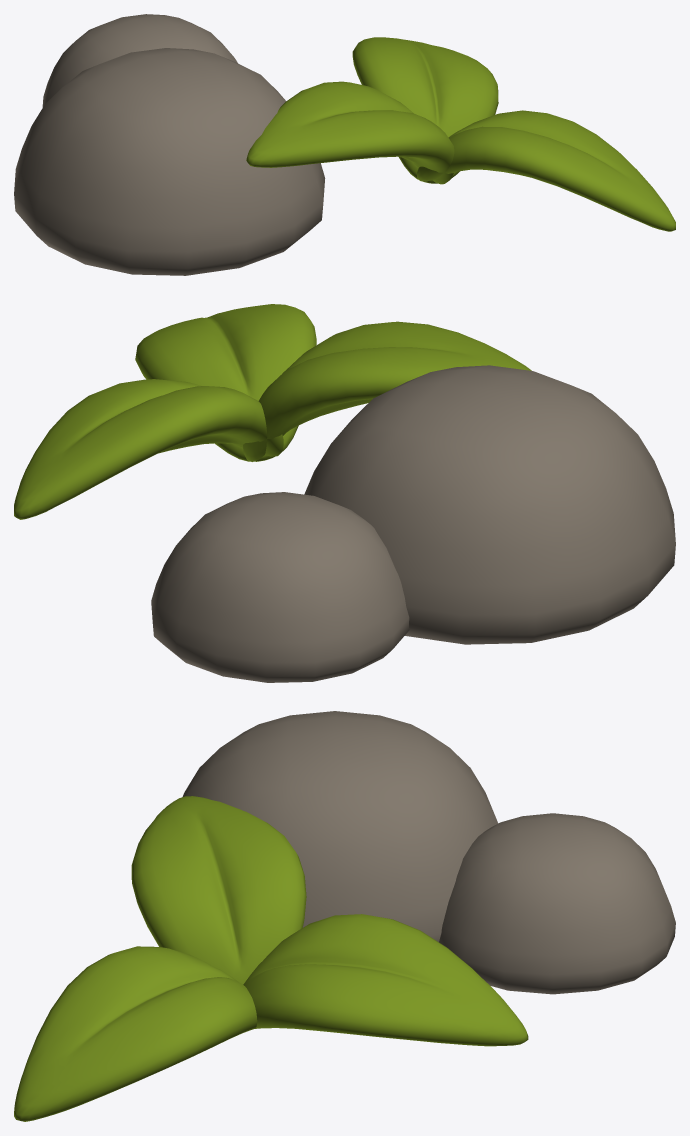
File: deco.glb
3 views of the same model, one above another, from view 1: azimuth 30°, elevation 25°; view 2: azimuth 150°, elevation 25°; view 3: azimuth 270°, elevation 25° (orthographic). The views are drawn at different scales.
Visible parts, largest first — view 1: Plane.020, Plane.036, Plane.021; view 2: Plane.020, Plane.036, Plane.021; view 3: Plane.036, Plane.020, Plane.021.
Boxes of the visible parts, left/top/right/bottom form: Plane.020: left=14, top=48, right=325, bottom=275; Plane.036: left=246, top=37, right=675, bottom=231; Plane.021: left=42, top=14, right=237, bottom=107; Plane.020: left=304, top=365, right=675, bottom=644; Plane.036: left=14, top=304, right=531, bottom=519; Plane.021: left=151, top=492, right=409, bottom=682; Plane.036: left=14, top=796, right=528, bottom=1121; Plane.020: left=182, top=711, right=498, bottom=941; Plane.021: left=439, top=813, right=675, bottom=994.
Bounding box in the file's own units: 1.85 × 0.5774 × 1.8.
